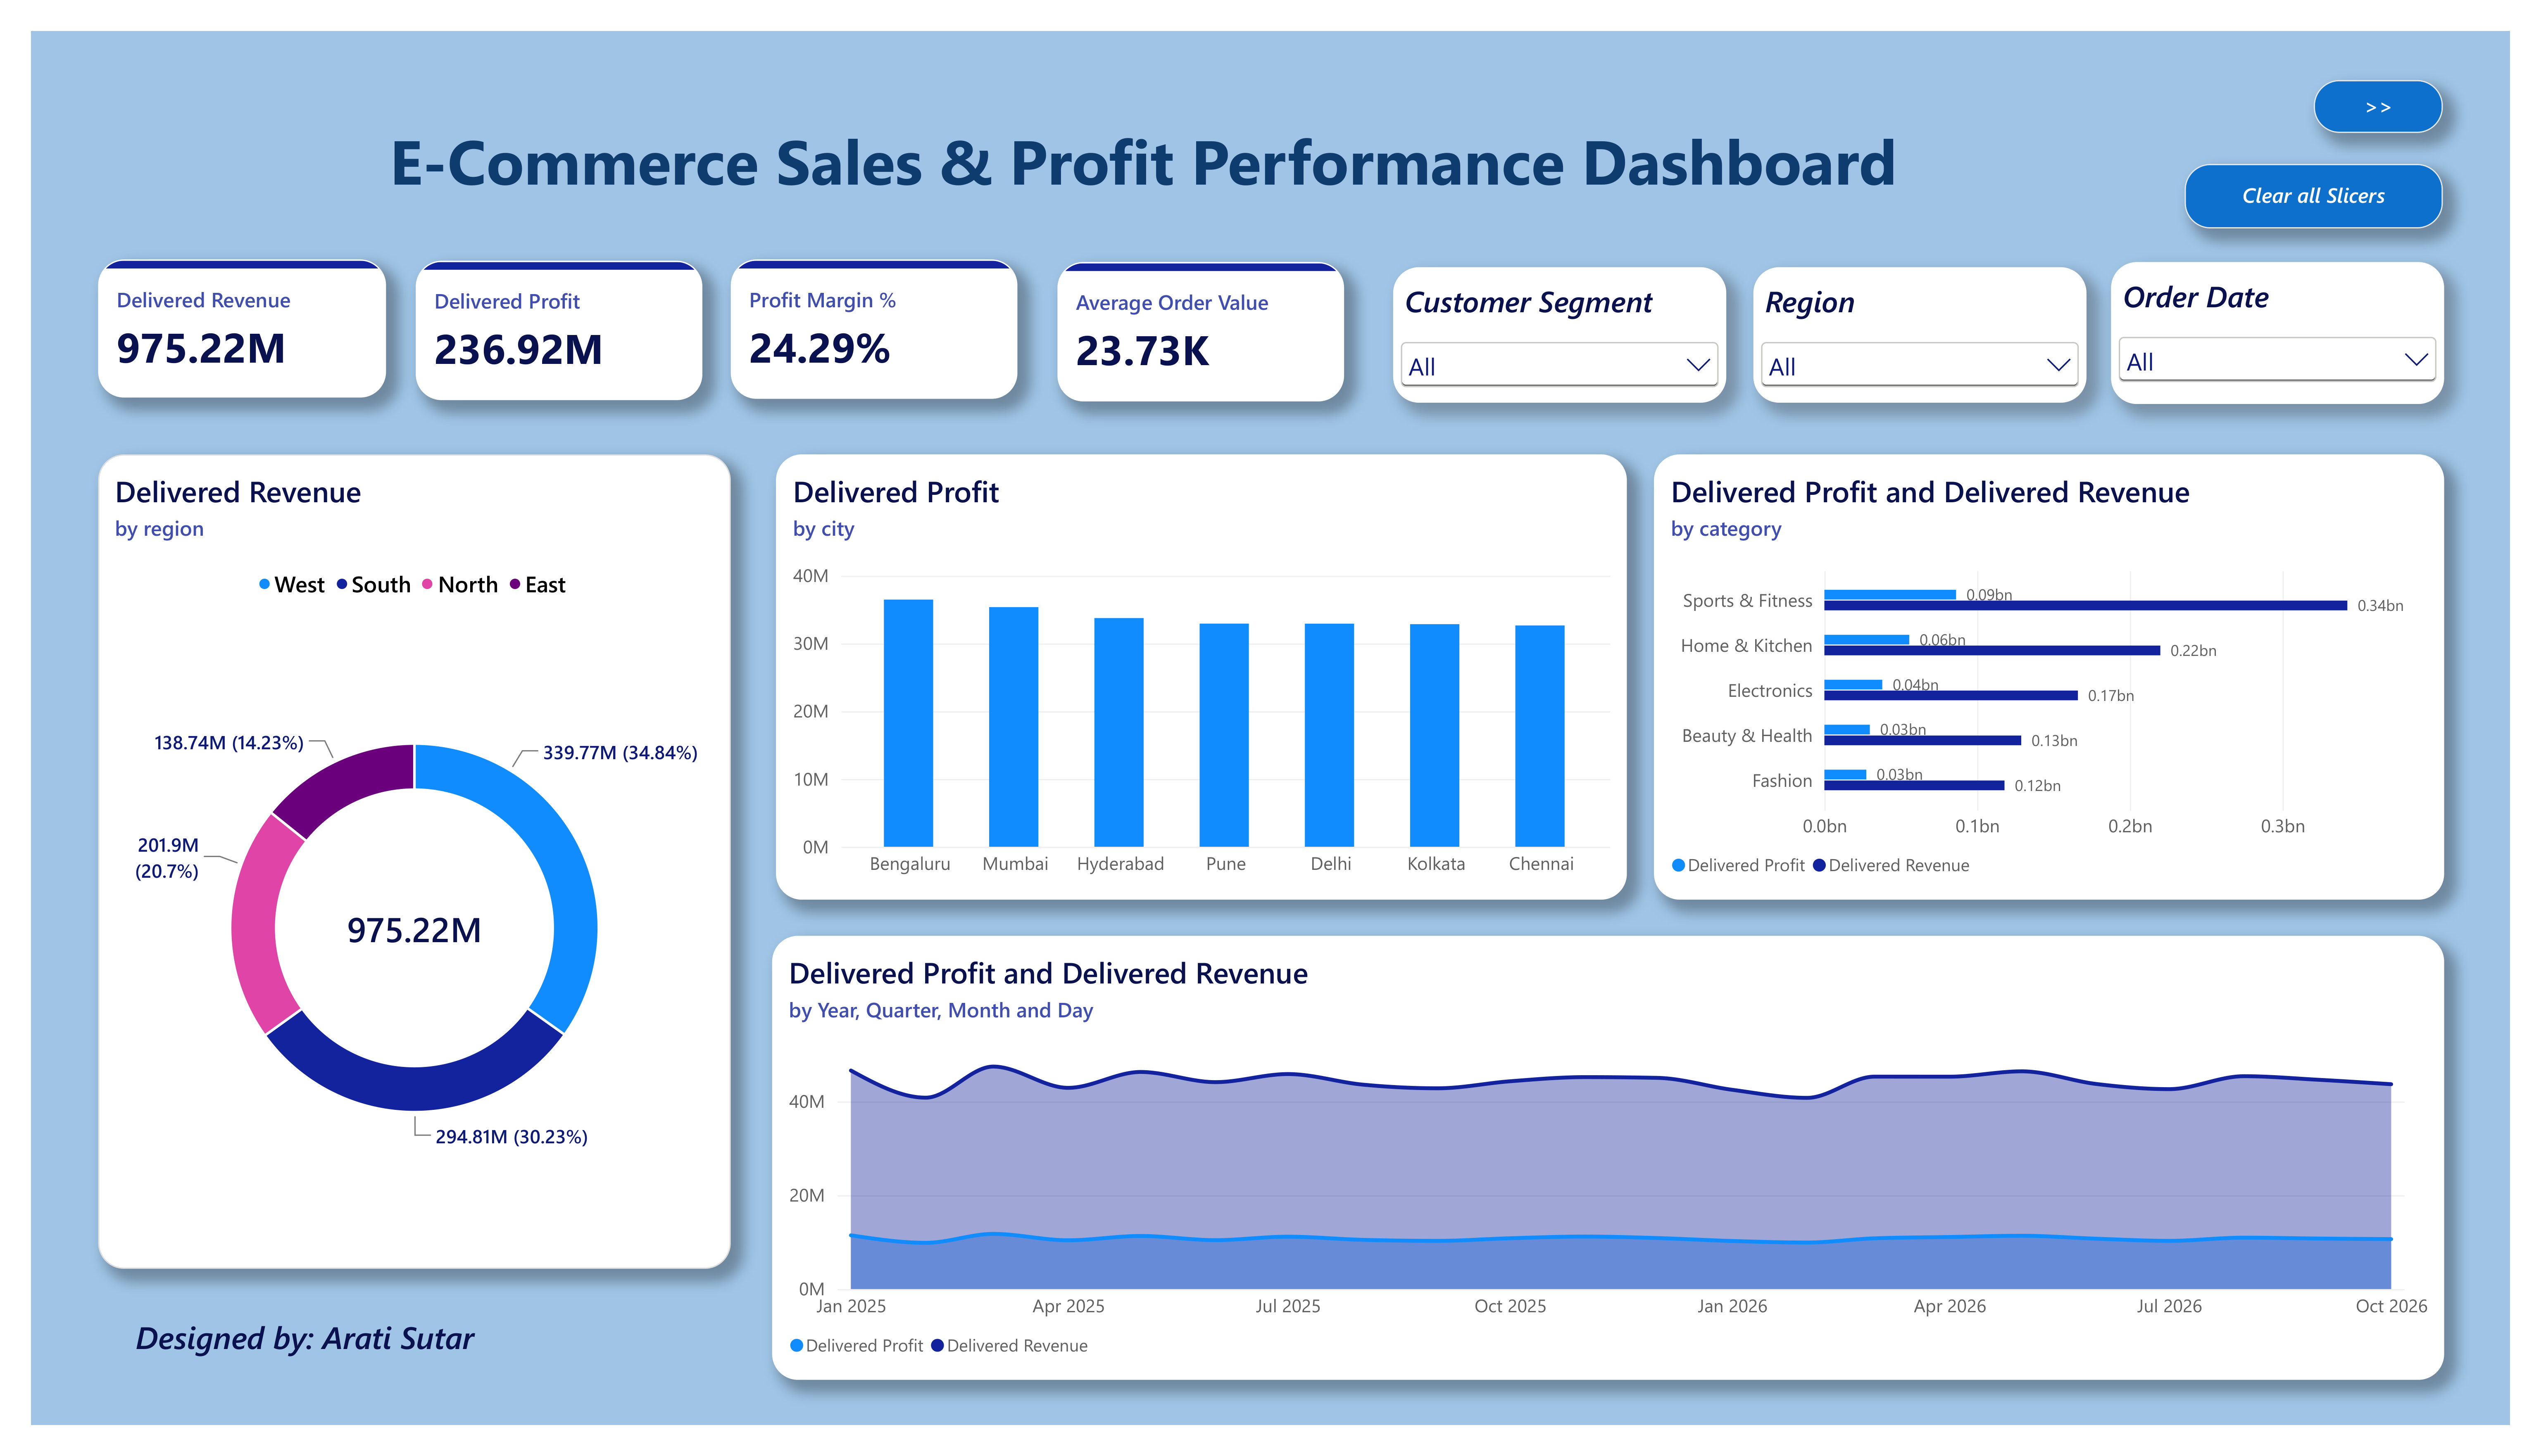

What the dashboard file says about the page in this screenshot:
{"tool":"powerbi","page":{"name":"Executive Overview","canvas":[1920,1080],"ordinal":0},"visuals":[{"type":"areaChart","fields":{"Category":["clean_orders.order_year_month.Variation.Date Hierarchy.Year","clean_orders.order_year_month.Variation.Date Hierarchy.Quarter","clean_orders.order_year_month.Variation.Date Hierarchy.Month","clean_orders.order_year_month.Variation.Date Hierarchy.Day"],"Y":["clean_orders.Delivered Profit","clean_orders.Delivered Revenue"]},"box":[574.4,700.8,1294.2,344.6],"z":0},{"type":"clusteredBarChart","fields":{"Category":["clean_products.category"],"Y":["clean_orders.Delivered Profit","clean_orders.Delivered Revenue"]},"box":[1256.6,328,611.9,344.6],"z":1000},{"type":"donutChart","fields":{"Category":["clean_customers.region"],"Y":["clean_orders.Delivered Revenue"]},"box":[51.6,328.2,490,630.7],"z":2000},{"type":"slicer","fields":{"Values":["clean_customers.customer_segment"]},"box":[1055,182.9,257.9,105.5],"z":3000},{"type":"slicer","fields":{"Values":["clean_customers.region"]},"box":[1334,182.9,257.9,105.5],"z":4000},{"type":"slicer","fields":{"Values":["clean_orders.order_date"]},"box":[1610.7,179.1,257.9,110.2],"z":5000},{"type":"clusteredColumnChart","fields":{"Category":["clean_customers.city"],"Y":["clean_orders.Delivered Profit"]},"box":[576.7,328,658.8,344.6],"z":6000},{"type":"textbox","box":[260.1,66.8,1202.5,69.2],"z":7000},{"type":"textbox","box":[81.1,994.9,331.6,38.2],"z":8000},{"type":"actionButton","box":[1768,38.2,100.2,40.6],"z":9000},{"type":"actionButton","box":[1667.8,102.6,200,50],"z":10000},{"type":"cardVisual","fields":{"Data":["clean_orders.Delivered Revenue"]},"box":[52.5,176.6,222.7,107.8],"z":11000},{"type":"cardVisual","fields":{"Data":["clean_orders.Average Order Value"]},"box":[794.8,179.1,222,107.8],"z":12000},{"type":"cardVisual","fields":{"Data":["clean_orders.Profit Margin %"]},"box":[541.6,176.7,222,107.8],"z":13000},{"type":"cardVisual","fields":{"Data":["clean_orders.Delivered Profit"]},"box":[297.7,178.2,222,107.8],"z":14000}]}

Visuals, with their boxes on the page's 1920x1080 design canvas (x1, y1, x2, y2). These are canvas units, not pixel positions in the 2541x1456 screenshot, which may show the page scaled, cropped or inside an application window:
areaChart - clean_orders.order_year_month.Variation.Date Hierarchy.Year x clean_orders.order_year_month.Variation.Date Hierarchy.Quarter: {"left": 574, "top": 701, "right": 1869, "bottom": 1045}
clusteredBarChart - clean_products.category x clean_orders.Delivered Profit: {"left": 1257, "top": 328, "right": 1868, "bottom": 673}
donutChart - clean_customers.region x clean_orders.Delivered Revenue: {"left": 52, "top": 328, "right": 542, "bottom": 959}
slicer - clean_customers.customer_segment: {"left": 1055, "top": 183, "right": 1313, "bottom": 288}
slicer - clean_customers.region: {"left": 1334, "top": 183, "right": 1592, "bottom": 288}
slicer - clean_orders.order_date: {"left": 1611, "top": 179, "right": 1869, "bottom": 289}
clusteredColumnChart - clean_customers.city x clean_orders.Delivered Profit: {"left": 577, "top": 328, "right": 1236, "bottom": 673}
textbox: {"left": 260, "top": 67, "right": 1463, "bottom": 136}
textbox: {"left": 81, "top": 995, "right": 413, "bottom": 1033}
actionButton: {"left": 1768, "top": 38, "right": 1868, "bottom": 79}
actionButton: {"left": 1668, "top": 103, "right": 1868, "bottom": 153}
cardVisual - clean_orders.Delivered Revenue: {"left": 52, "top": 177, "right": 275, "bottom": 284}
cardVisual - clean_orders.Average Order Value: {"left": 795, "top": 179, "right": 1017, "bottom": 287}
cardVisual - clean_orders.Profit Margin %: {"left": 542, "top": 177, "right": 764, "bottom": 284}
cardVisual - clean_orders.Delivered Profit: {"left": 298, "top": 178, "right": 520, "bottom": 286}
